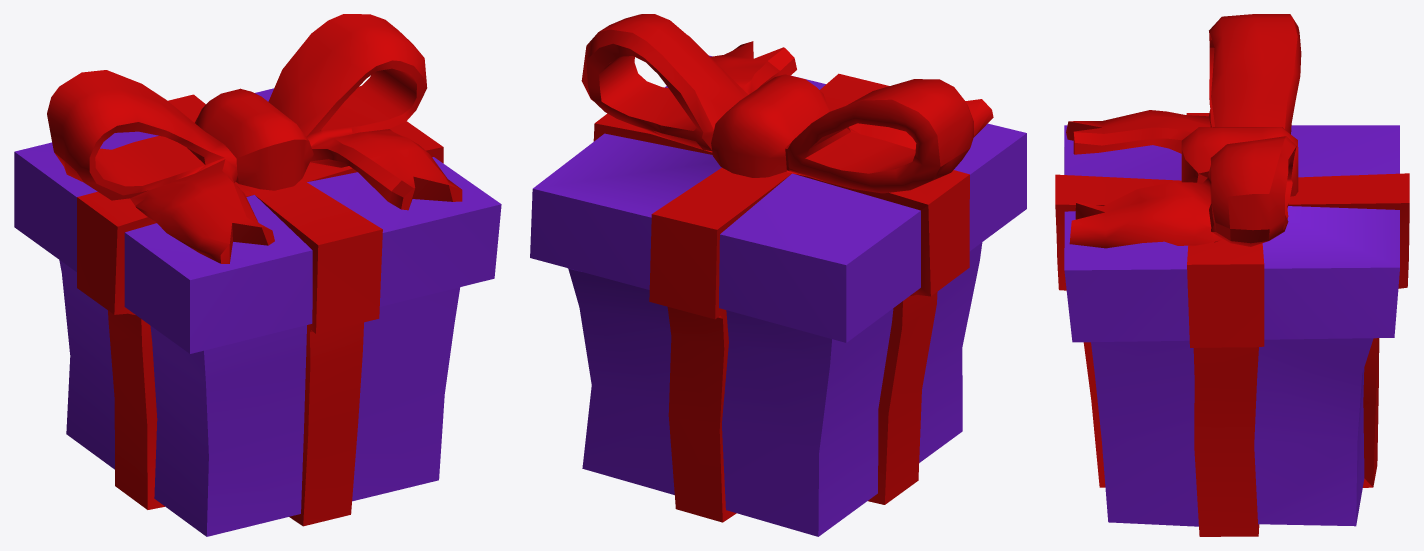
Rendered from PackageHighTierNew.fbx.
The picture shows the model from 3 angles, left to right: view 1: azimuth 30°, elevation 25°; view 2: azimuth 150°, elevation 25°; view 3: azimuth 270°, elevation 25°; orthographic projection. The views are drawn at different scales.
Parts seen in each view (by area): view 1: Box001; view 2: Box001; view 3: Box001.
Part boxes in pixels (x1,y1,x2,y2): Box001: [14, 14, 501, 536]; Box001: [530, 14, 1026, 536]; Box001: [1055, 14, 1409, 536].
Bounding box in the file's own units: 27.47 × 30.26 × 24.68.
